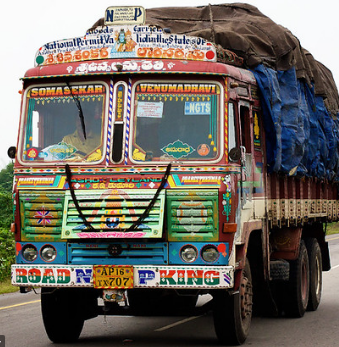truck: (10, 3, 338, 344)
